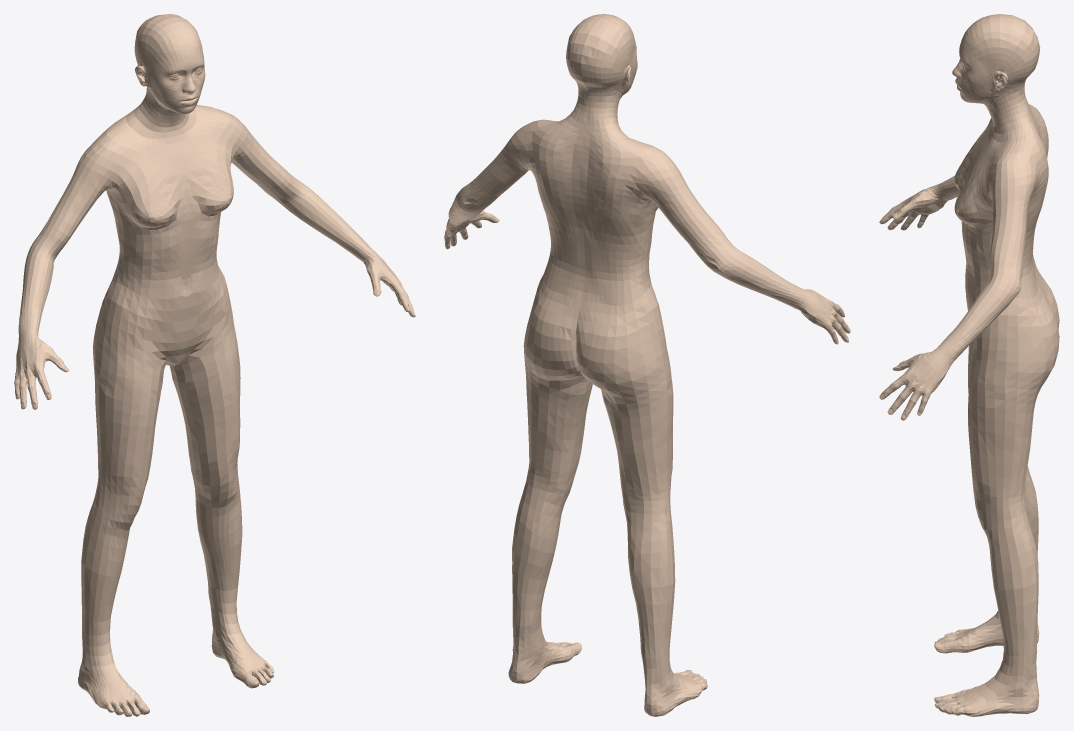
File: female-adult-fit-medium.glb
3 views of the same model, side by side, from view 1: azimuth 30°, elevation 25°; view 2: azimuth 150°, elevation 25°; view 3: azimuth 270°, elevation 25° (orthographic).
Parts seen in each view (by area): view 1: world; view 2: world; view 3: world.
Part boxes in pixels (bbox=[...]): world: bbox=[14, 14, 415, 716]; world: bbox=[444, 14, 850, 716]; world: bbox=[879, 14, 1059, 716].
Bounding box in the file's own units: 1.12 × 1.81 × 0.4467.
